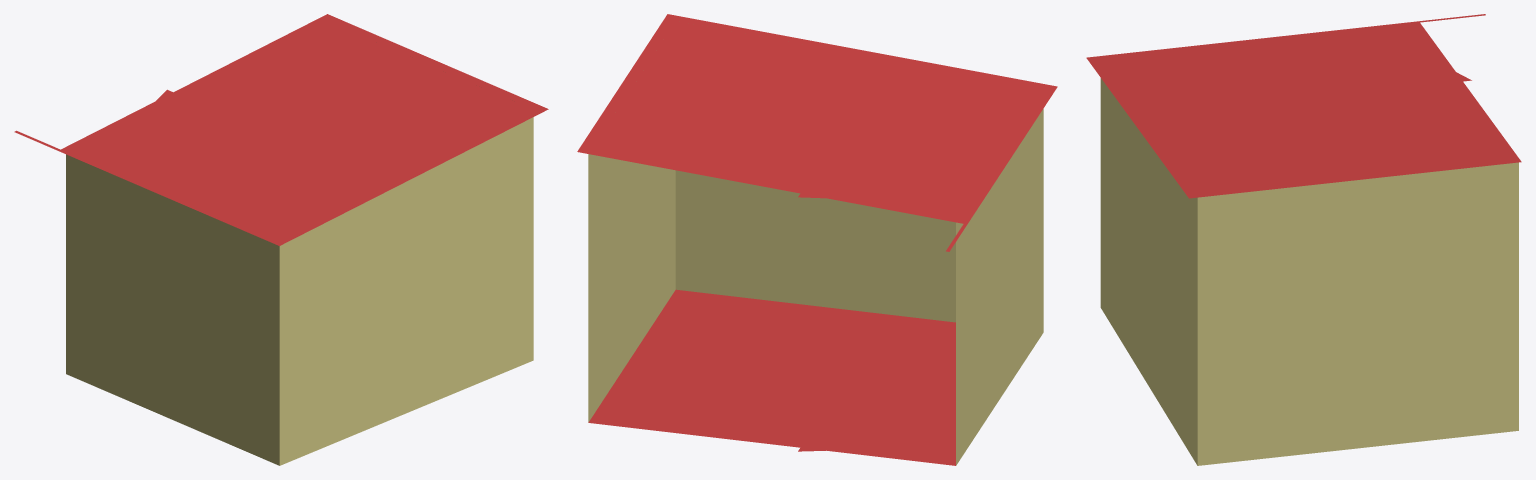
The picture shows the model from 3 angles, left to right: view 1: azimuth 30°, elevation 25°; view 2: azimuth 150°, elevation 25°; view 3: azimuth 270°, elevation 25°; orthographic projection. The views are drawn at different scales.
Size of the model in its own units: 10.57 by 9.19 by 6.37.
